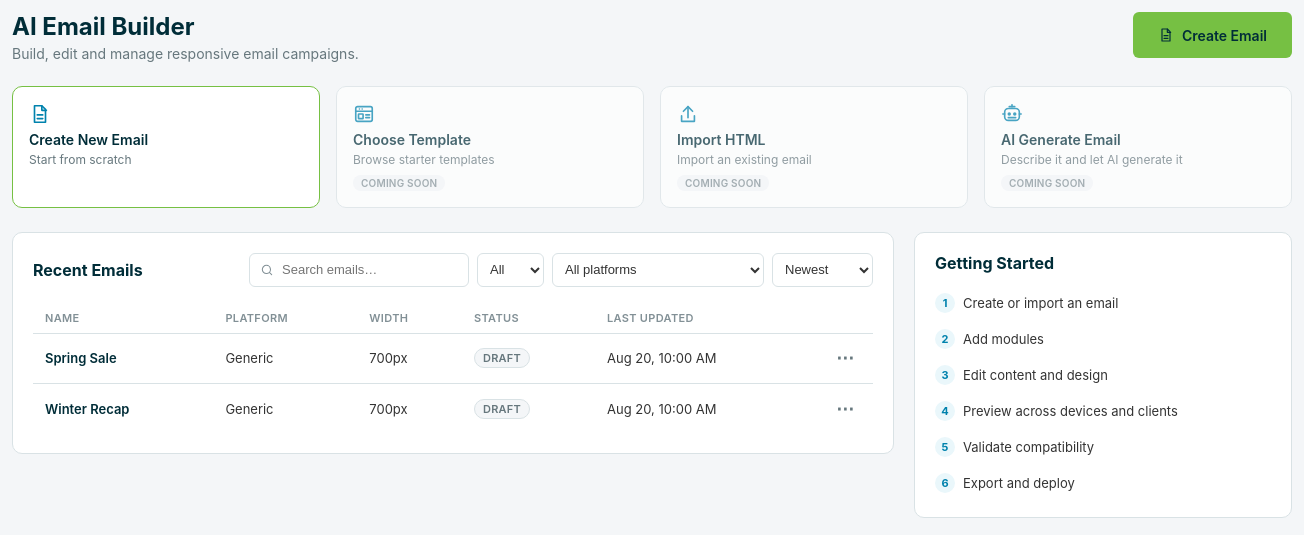
EmailBuilderDashboardPage — search, filter, sort › clearing the search restores the full list
The image size is (1304, 535).
Type "winter" into the search field with placeholder "Search emails…".
click(370, 270); type("winter")  # box [280,261,460,278]
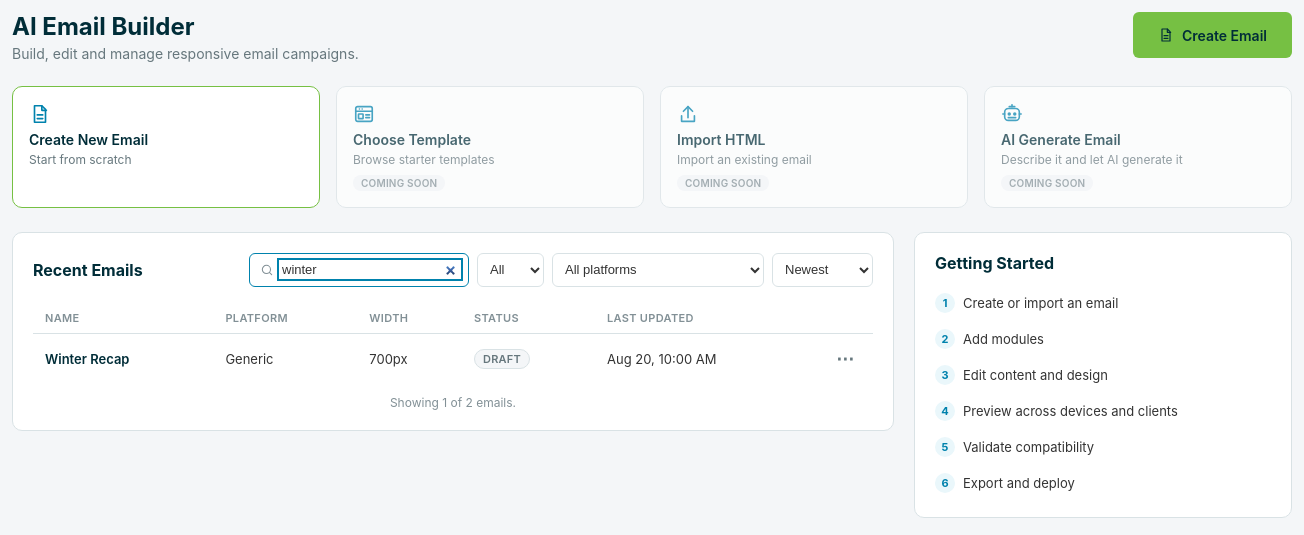
Expected: the link "Winter Recap" is shown, [45,350,130,366]
Clear the search field with placeholder "Search emails…" at x=370, y=270, box [280,261,460,278]
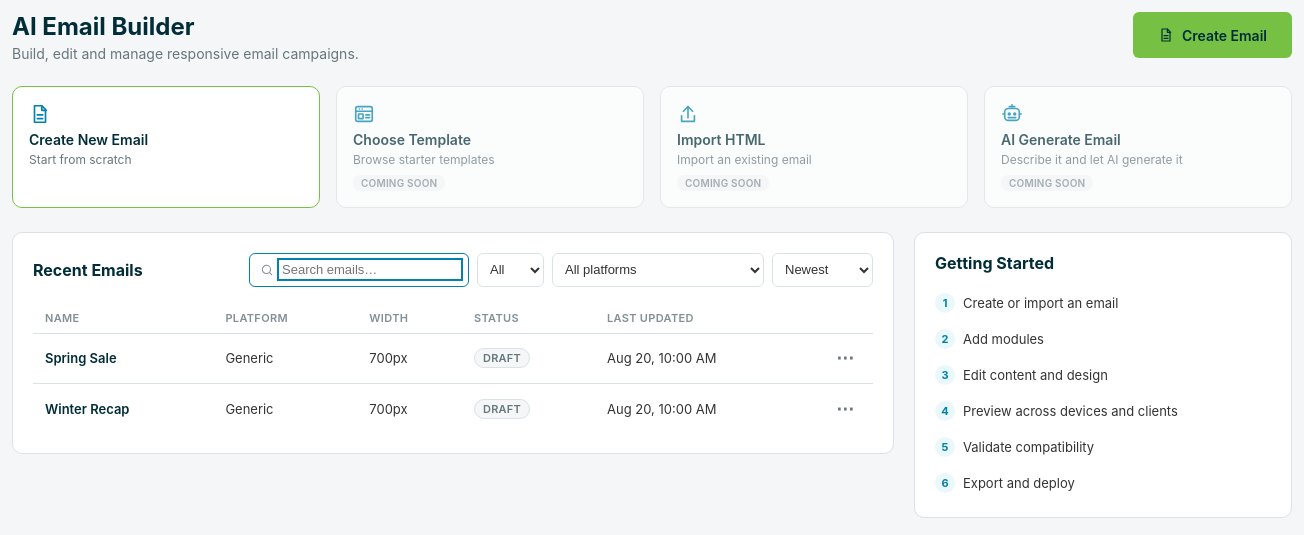
Expected: the link "Spring Sale" is shown, [45,350,117,366]
